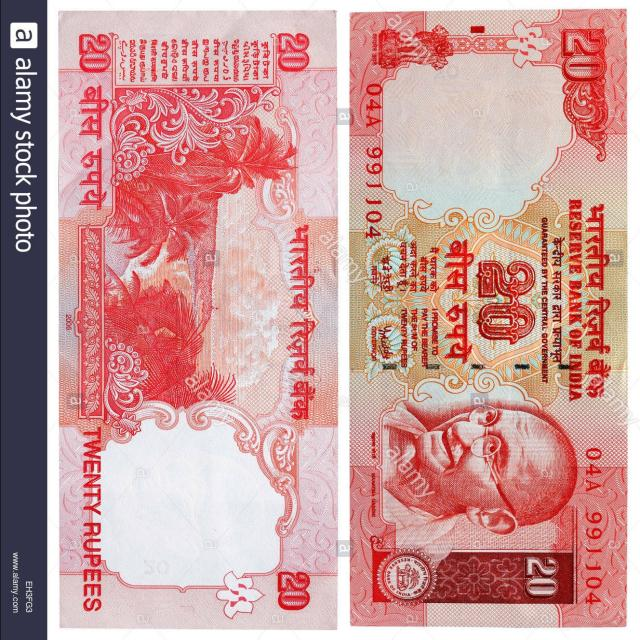20IndianRupees: (66, 11, 335, 632)
